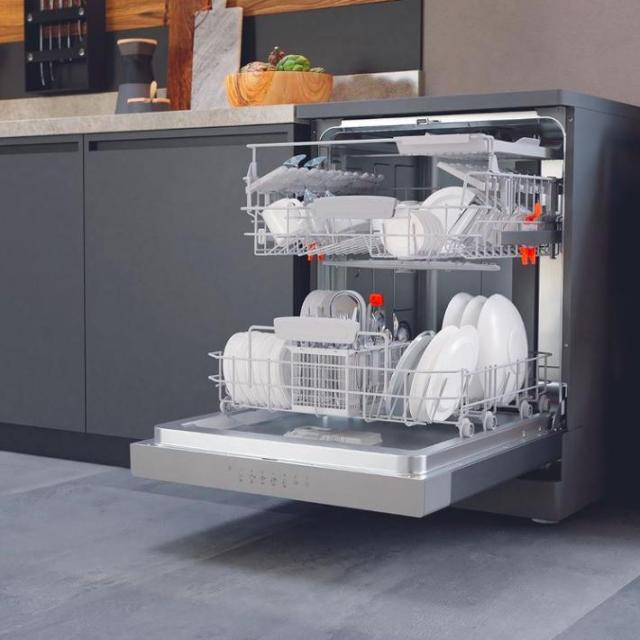dishwasher: (127, 105, 569, 521)
